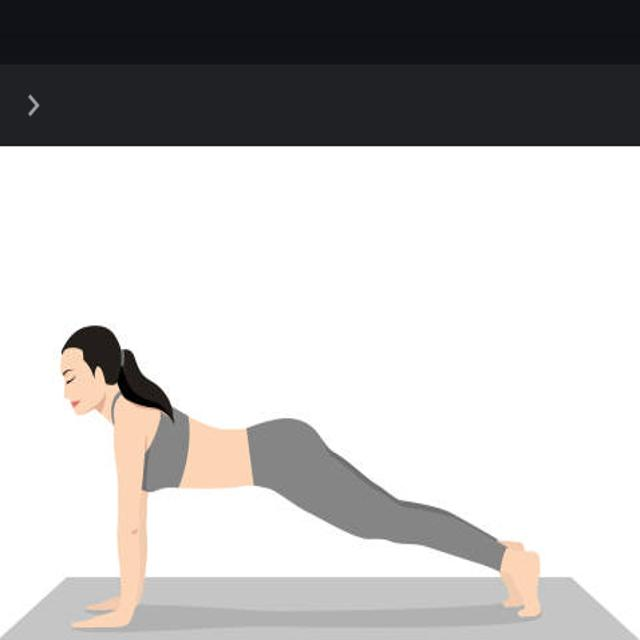Plank_Pose: (45, 308, 549, 633)
